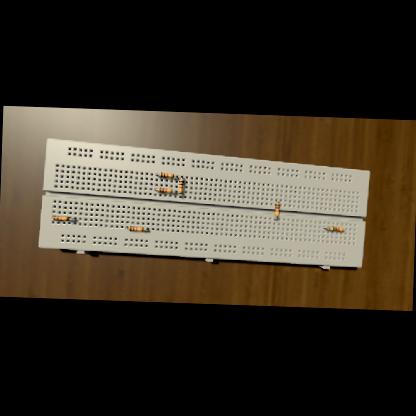breadboard: (37, 138, 370, 270)
resistor: (53, 215, 70, 221), (128, 226, 144, 232), (274, 203, 280, 216), (160, 172, 174, 177), (158, 188, 172, 193), (178, 179, 183, 193), (329, 226, 344, 230)
wire: (324, 226, 330, 228), (174, 175, 178, 177), (174, 190, 178, 192), (144, 228, 148, 230), (69, 218, 76, 219), (276, 200, 278, 203), (156, 188, 158, 190), (274, 216, 276, 218), (180, 194, 181, 196), (50, 216, 52, 217), (127, 226, 128, 228), (157, 174, 159, 174), (182, 176, 182, 178)
